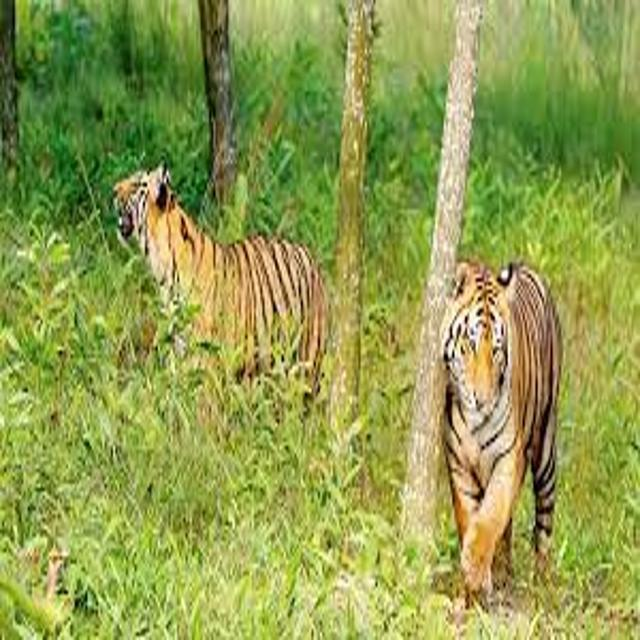Tiger: (85, 159, 341, 427), (416, 247, 612, 588)
